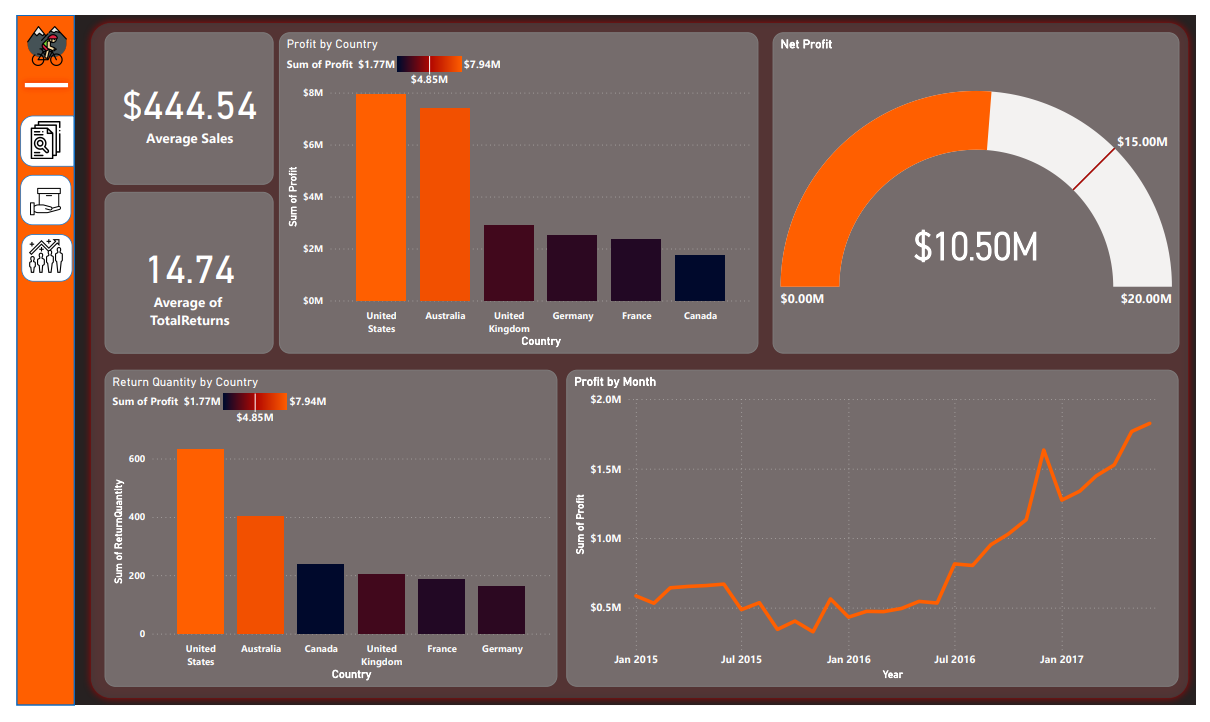

The page's visual inventory and layout, read from the dashboard file:
{"tool":"powerbi","page":{"name":"Overview","canvas":[1640,960],"ordinal":0},"visuals":[{"type":"shape","box":[91.7,0,1548.5,960],"z":0},{"type":"shape","box":[5.3,139.4,75,71.4],"z":0,"group":"g2"},{"type":"shape","box":[5.3,221.4,71.4,69.6],"z":0,"group":"g3"},{"type":"shape","box":[6.4,305.1,70.8,65.9],"z":0,"group":"g1"},{"type":"image","box":[10.7,143,60.7,60.7],"z":1000,"group":"g2"},{"type":"image","box":[10.7,232.1,58.9,51.8],"z":1000,"group":"g3"},{"type":"image","box":[11.2,305.1,59.5,61.1],"z":1000,"group":"g1"},{"type":"lineChart","title":"Profit by Month","fields":{"Category":["AdventureWorks_Calendar.Date.Variation.Date Hierarchy.Year","AdventureWorks_Calendar.Date.Variation.Date Hierarchy.Quarter","AdventureWorks_Calendar.Date.Variation.Date Hierarchy.Month","AdventureWorks_Calendar.Date.Variation.Date Hierarchy.Day"],"Y":["_MEASURES.Total_Net_Profit FYTD","_MEASURES.Total_Net_Profit"]},"box":[765.4,493.7,852.3,440.6],"z":1000},{"type":"columnChart","title":"Profit by Country","fields":{"Category":["AdventureWorks_Territories.Country"],"Y":["_MEASURES.Total_Profit"]},"box":[398.8,75.6,633.6,395.6],"z":2000},{"type":"card","fields":{"Values":["_MEASURES.Number of Orders"]},"box":[122.2,75.6,234.8,172.1],"z":3000},{"type":"card","fields":{"Values":["_MEASURES.Number of Returned Orders"]},"box":[122.2,257.3,234.8,213.9],"z":4000},{"type":"gauge","fields":{"Y":["_MEASURES.Total_Profit"]},"box":[1051.7,75.6,384.3,395.6],"z":5000},{"type":"shape","box":[0,0,80.4,960],"z":6000},{"type":"group","id":"g1","title":"Group 2","box":[6.4,305.1,70.8,65.9],"z":7000},{"type":"group","id":"g2","title":"Group 1","box":[5.3,139.4,75,71.4],"z":8000},{"type":"group","id":"g3","title":"Group 3","box":[5.3,221.4,71.4,69.6],"z":9000},{"type":"image","box":[6.4,11.3,70.8,64.3],"z":10000},{"type":"shape","box":[3.2,75.6,75.6,41.8],"z":11000},{"type":"slicer","fields":{"Values":["AdventureWorks_Calendar.Date.Variation.Date Hierarchy.Year"]},"box":[1455.3,101.3,162.4,130.3],"z":12000},{"type":"slicer","fields":{"Values":["AdventureWorks_Product_Categories.CategoryName"]},"box":[1455.3,250.9,162.4,170.5],"z":13000},{"type":"clusteredColumnChart","title":"Return Quantity by Country","fields":{"Y":["Sum(AdventureWorks_Returns.ReturnQuantity)"],"Category":["AdventureWorks_Territories.Country"]},"box":[122.2,493.7,619.1,440.6],"z":14000},{"type":"textbox","box":[139.9,4.8,410.1,75.6],"z":15000}]}

Visuals, with their boxes on the page's 1640x960 design canvas (x1, y1, x2, y2). These are canvas units, not pixel positions in the 1210x722 screenshot, which may show the page scaled, cropped or inside an application window:
shape: box(92, 0, 1640, 960)
shape: box(5, 139, 80, 211)
shape: box(5, 221, 77, 291)
shape: box(6, 305, 77, 371)
image: box(11, 143, 71, 204)
image: box(11, 232, 70, 284)
image: box(11, 305, 71, 366)
"Profit by Month" lineChart: box(765, 494, 1618, 934)
"Profit by Country" columnChart: box(399, 76, 1032, 471)
card - _MEASURES.Number of Orders: box(122, 76, 357, 248)
card - _MEASURES.Number of Returned Orders: box(122, 257, 357, 471)
gauge - _MEASURES.Total_Profit: box(1052, 76, 1436, 471)
shape: box(0, 0, 80, 960)
"Group 2" group: box(6, 305, 77, 371)
"Group 1" group: box(5, 139, 80, 211)
"Group 3" group: box(5, 221, 77, 291)
image: box(6, 11, 77, 76)
shape: box(3, 76, 79, 117)
slicer - AdventureWorks_Calendar.Date.Variation.Date Hierarchy.Year: box(1455, 101, 1618, 232)
slicer - AdventureWorks_Product_Categories.CategoryName: box(1455, 251, 1618, 421)
"Return Quantity by Country" clusteredColumnChart: box(122, 494, 741, 934)
textbox: box(140, 5, 550, 80)
